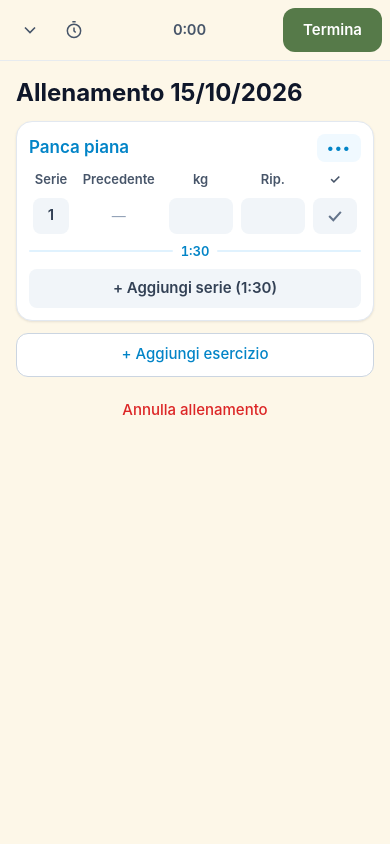
Test: sessione locale nell'IPA › C19: ✓ su una serie senza kg mostra 'Inserisci kg e ripetizioni' e la serie resta non completata
Click the button named "Completa serie 1" at (335, 216), box x1=313 y1=198 x2=357 y2=234
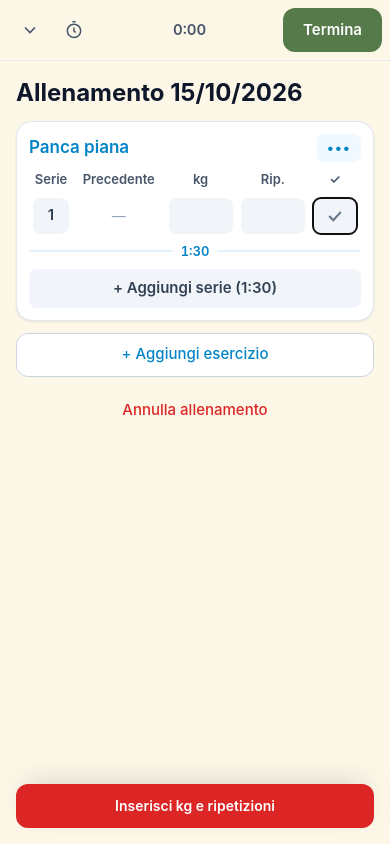
Now the message reads "Inserisci kg e ripetizioni", box x1=115 y1=797 x2=275 y2=814
